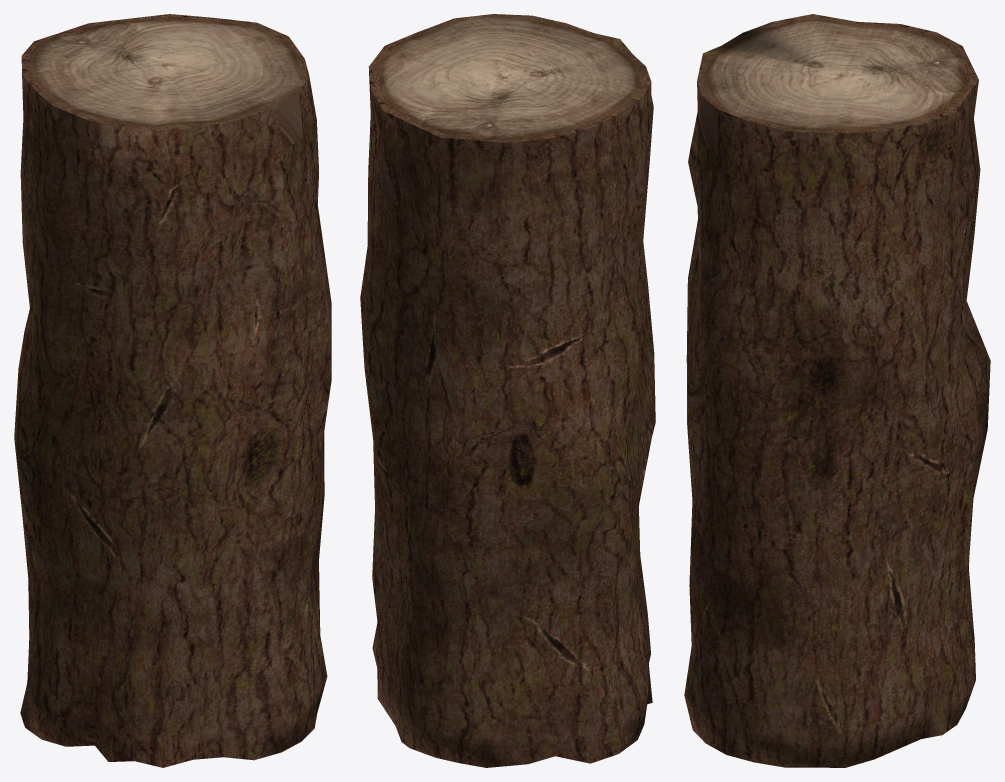
Rendered from cut_tree_trunk.glb.
The picture shows the model from 3 angles, left to right: view 1: azimuth 30°, elevation 25°; view 2: azimuth 150°, elevation 25°; view 3: azimuth 270°, elevation 25°; orthographic projection.
Visible parts, largest first — view 1: Tronco; view 2: Tronco; view 3: Tronco.
Part boxes in pixels (bbox=[...]): Tronco: bbox=[14, 14, 331, 767]; Tronco: bbox=[360, 14, 655, 767]; Tronco: bbox=[684, 14, 990, 767].
Size of the model in its own units: 0.363 by 0.8437 by 0.368.
1 material, 1 textured.
